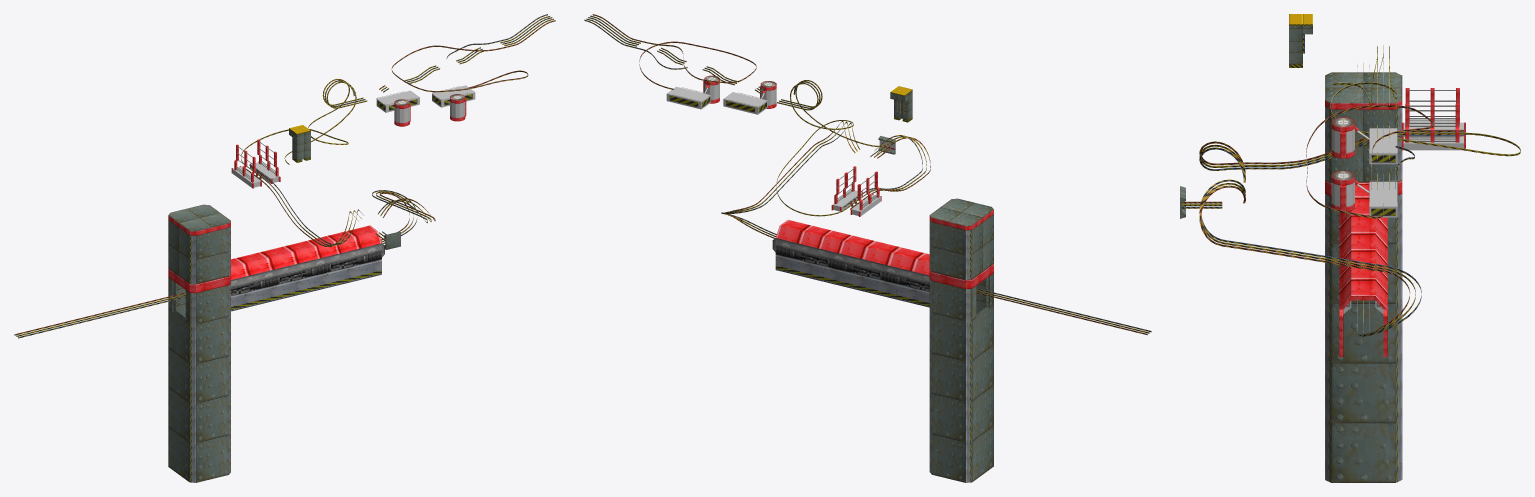
File: 2P_Rail_canyon6.obj
The picture shows the model from 3 angles, left to right: view 1: azimuth 30°, elevation 25°; view 2: azimuth 150°, elevation 25°; view 3: azimuth 270°, elevation 25°; orthographic projection. The views are drawn at different scales.
Visible parts, largest first — view 1: Object_2, obj2; view 2: Object_2, obj2; view 3: Object_2, obj2, obj1.
Part boxes in pixels (x1=…): Object_2: x1=14, y1=14, x2=555, y2=482; obj2: x1=231, y1=85, x2=474, y2=188; Object_2: x1=584, y1=14, x2=1151, y2=482; obj2: x1=667, y1=75, x2=881, y2=216; Object_2: x1=1180, y1=14, x2=1520, y2=482; obj2: x1=1331, y1=117, x2=1465, y2=211; obj1: x1=1371, y1=129, x2=1395, y2=205.
Size of the model in its own units: 4700 by 2982 by 1692.
